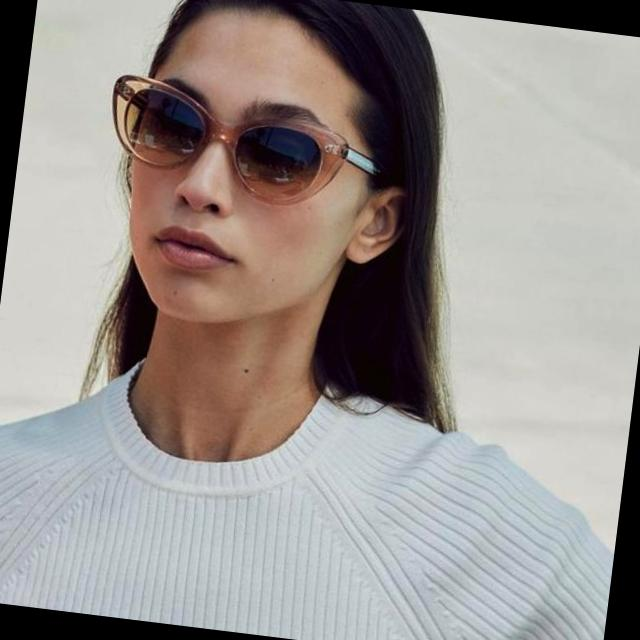glasses: (102, 72, 394, 218)
